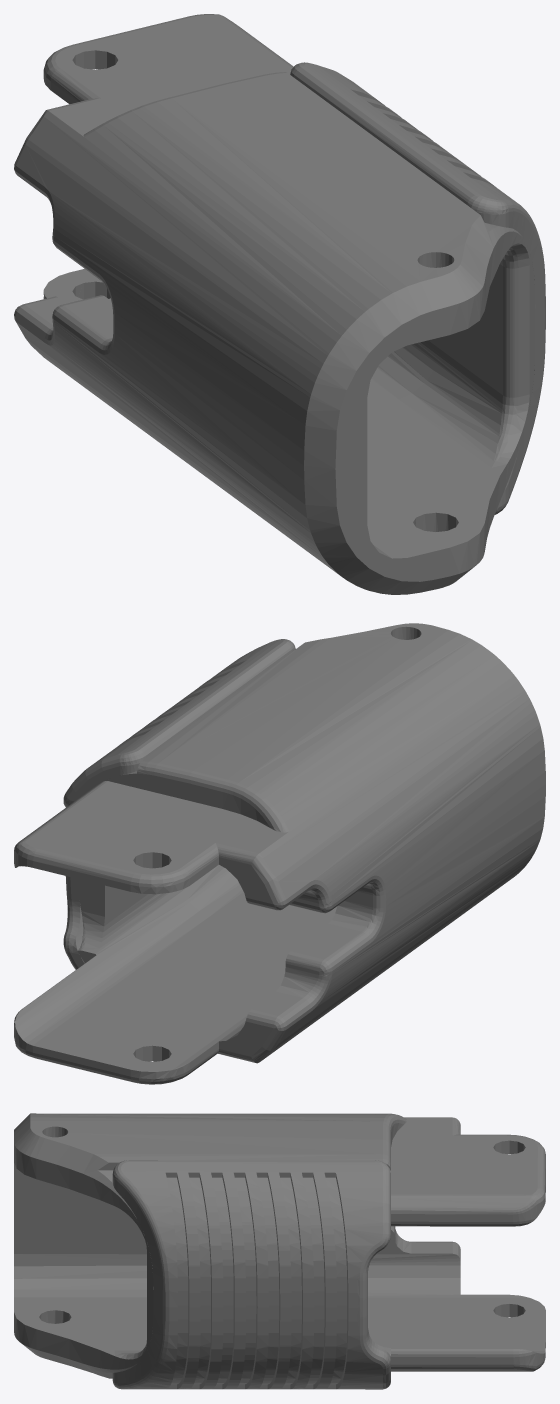
File: lh_pinky_proximal_vis.obj
3 views of the same model, one above another, from view 1: azimuth 30°, elevation 25°; view 2: azimuth 150°, elevation 25°; view 3: azimuth 270°, elevation 25° (orthographic). The views are drawn at different scales.
Visible parts, largest first — view 1: lh_pinky_proximal; view 2: lh_pinky_proximal; view 3: lh_pinky_proximal.
Part boxes in pixels (x1,y1,x2,y2): lh_pinky_proximal: (14,14,545,594); lh_pinky_proximal: (14,623,545,1084); lh_pinky_proximal: (14,1113,545,1389).
Size of the model in its own units: 0.017 by 0.0154 by 0.0328.
1 material, 1 textured.
